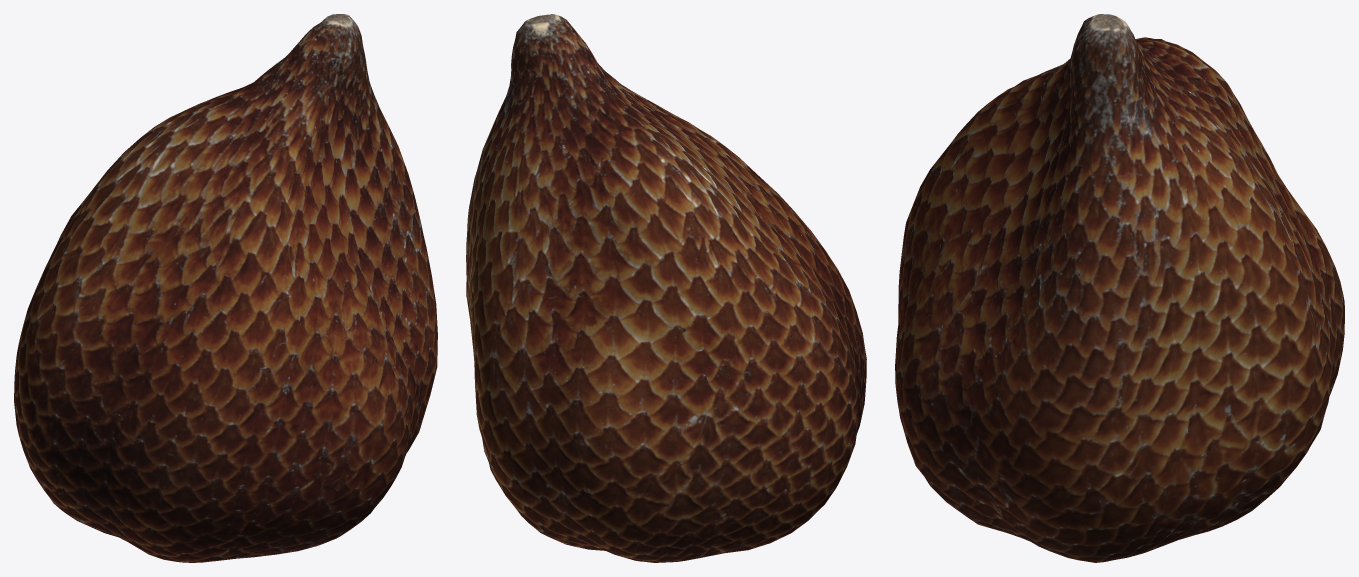
Rendered from snakefruit.fbx.
3 views of the same model, side by side, from view 1: azimuth 30°, elevation 25°; view 2: azimuth 150°, elevation 25°; view 3: azimuth 270°, elevation 25° (orthographic). The views are drawn at different scales.
Parts seen in each view (by area): view 1: ssf_body; view 2: ssf_body; view 3: ssf_body.
Boxes of the visible parts, box(x1,y1,x2,y2) form: ssf_body: box(14, 14, 437, 562); ssf_body: box(466, 14, 866, 562); ssf_body: box(895, 14, 1344, 562).
Bounding box in the file's own units: 5.39 × 6.54 × 4.75.
1 material, 1 textured.
